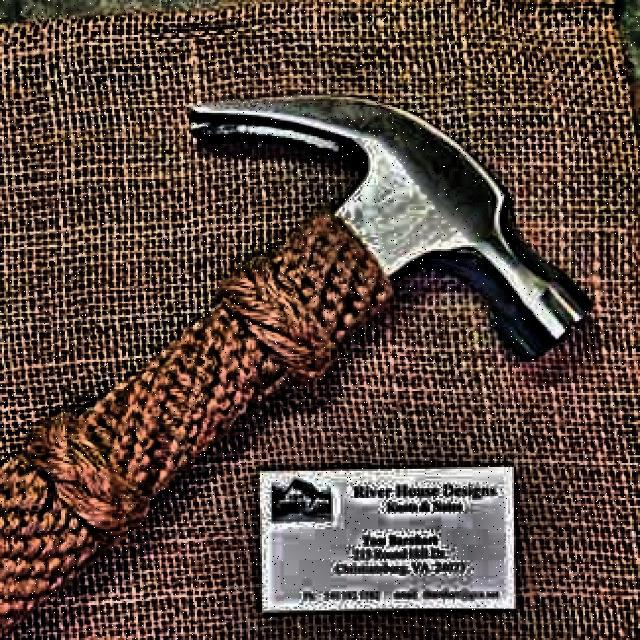hammer: (1, 93, 596, 636)
